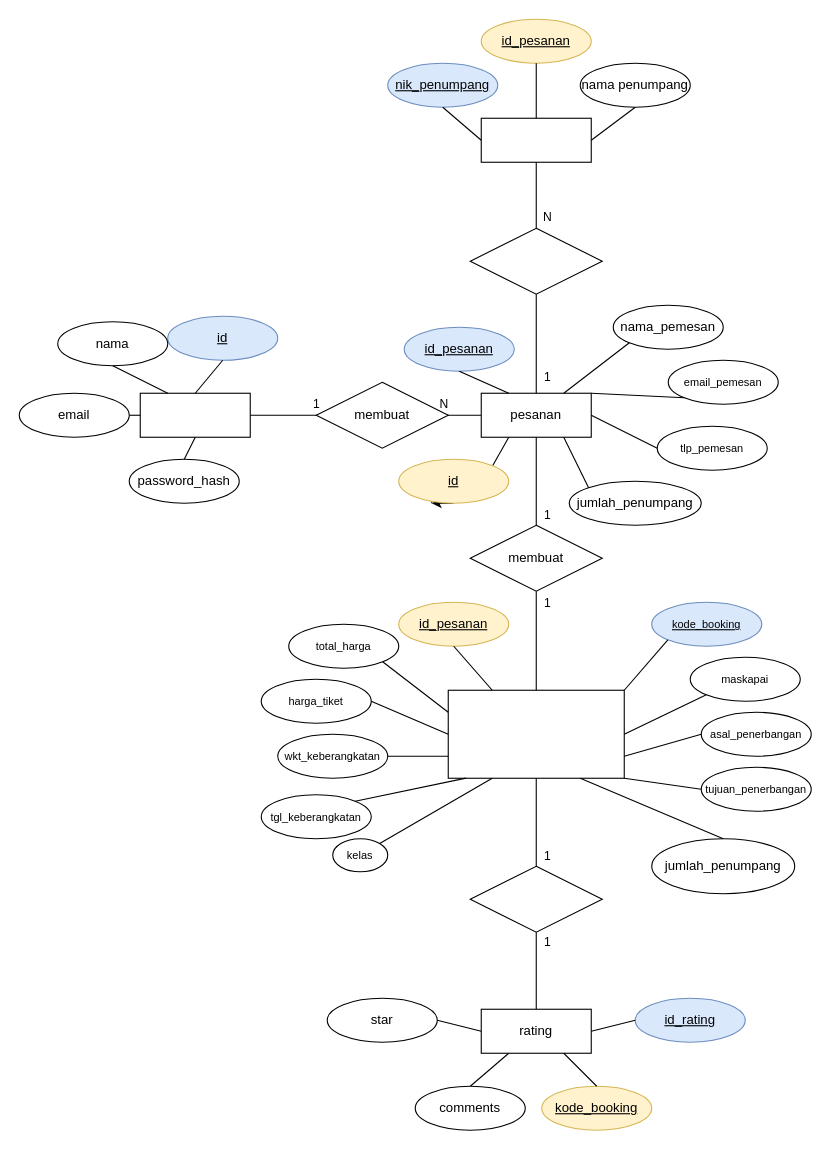
This 831x1150 diagram has some shape labels left out. Each missing label, with the centre of its shape:
booking: point (535, 733)
memiliki: point (535, 260)
menghasilkan: point (535, 898)
penumpang: point (535, 139)
user: point (194, 414)
